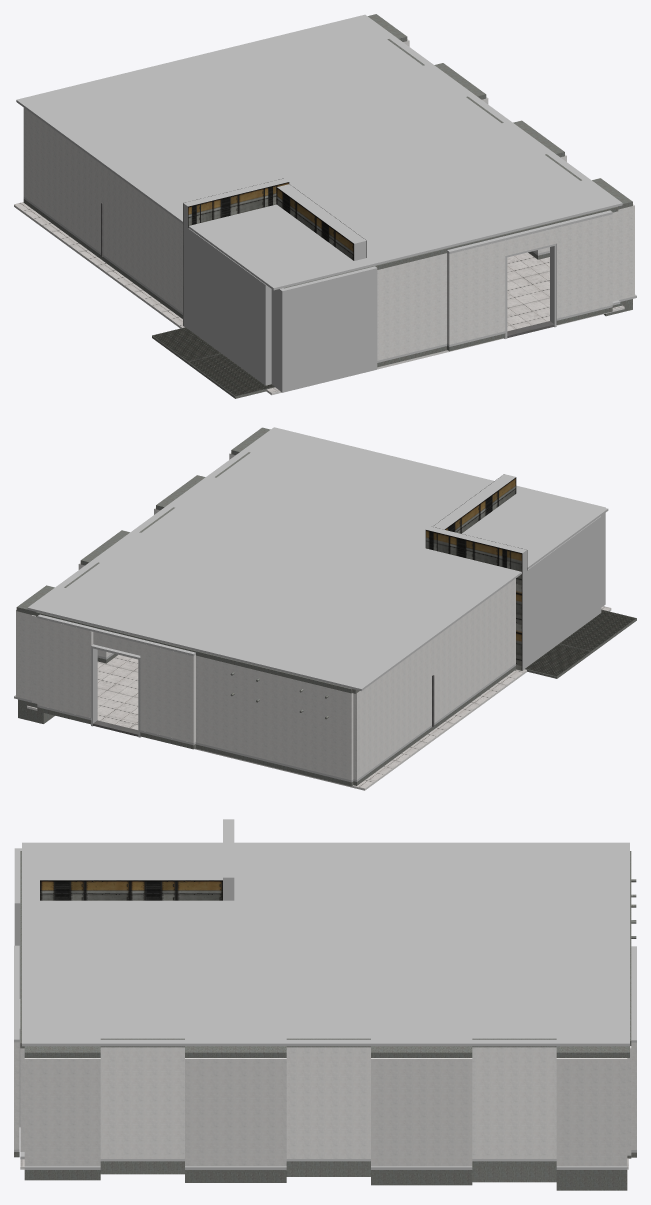
The model's file is scp_room_1123.dae.
3 renders of one model, top to bottom at view 1: azimuth 30°, elevation 25°; view 2: azimuth 150°, elevation 25°; view 3: azimuth 270°, elevation 25°, orthographic. The views are drawn at different scales.
Parts seen in each view (by area): view 1: SCP 1123 Containment Chamber.011, SCP 1123 Containment Chamber.005, SCP 1123 Containment Chamber.003, SCP 1123 Containment Chamber.002, SCP 1123 Containment Chamber, SCP 1123 Containment Chamber.004, SCP 1123 Containment Chamber.012, SCP 1123 Containment Chamber.001, SCP 1123 Containment Chamber.007; view 2: SCP 1123 Containment Chamber.011, SCP 1123 Containment Chamber.005, SCP 1123 Containment Chamber.003, SCP 1123 Containment Chamber.002, SCP 1123 Containment Chamber, SCP 1123 Containment Chamber.004, SCP 1123 Containment Chamber.012, SCP 1123 Containment Chamber.001, SCP 1123 Containment Chamber.007; view 3: SCP 1123 Containment Chamber.011, SCP 1123 Containment Chamber.005, SCP 1123 Containment Chamber.002, SCP 1123 Containment Chamber.004, SCP 1123 Containment Chamber.003, SCP 1123 Containment Chamber.001.
Part boxes in pixels (x1,y1,x2,y2): SCP 1123 Containment Chamber.011: [16, 14, 622, 290]; SCP 1123 Containment Chamber.005: [23, 39, 634, 360]; SCP 1123 Containment Chamber.003: [183, 178, 556, 392]; SCP 1123 Containment Chamber.002: [23, 14, 632, 398]; SCP 1123 Containment Chamber: [14, 202, 624, 392]; SCP 1123 Containment Chamber.004: [183, 178, 366, 325]; SCP 1123 Containment Chamber.012: [152, 327, 274, 396]; SCP 1123 Containment Chamber.001: [23, 197, 636, 362]; SCP 1123 Containment Chamber.007: [14, 204, 624, 395]; SCP 1123 Containment Chamber.011: [27, 427, 608, 690]; SCP 1123 Containment Chamber.005: [16, 452, 515, 780]; SCP 1123 Containment Chamber.003: [91, 474, 605, 737]; SCP 1123 Containment Chamber.002: [16, 427, 636, 786]; SCP 1123 Containment Chamber: [27, 606, 610, 788]; SCP 1123 Containment Chamber.004: [425, 474, 527, 670]; SCP 1123 Containment Chamber.012: [525, 609, 636, 676]; SCP 1123 Containment Chamber.001: [14, 614, 515, 782]; SCP 1123 Containment Chamber.007: [27, 608, 611, 790]; SCP 1123 Containment Chamber.011: [22, 842, 629, 1046]; SCP 1123 Containment Chamber.005: [14, 1042, 636, 1166]; SCP 1123 Containment Chamber.002: [14, 851, 636, 1190]; SCP 1123 Containment Chamber.004: [40, 880, 222, 900]; SCP 1123 Containment Chamber.003: [14, 819, 234, 1126]; SCP 1123 Containment Chamber.001: [14, 945, 636, 1169].
Size of the model in its own units: 38.6 by 44.25 by 12.8.
